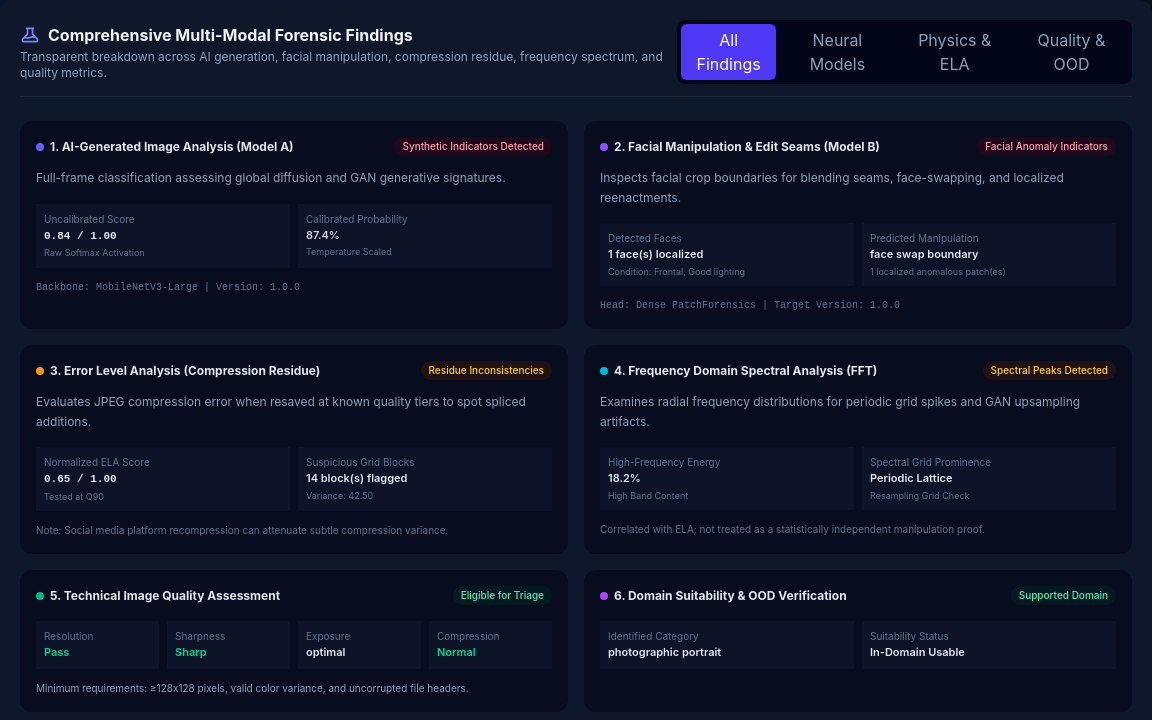
it: ForensicModalityBreakdown Component › filters visible sections when switching tabs
Switch to "Neural Models" tab
Click the tab "Neural Models": (837, 52) x1=780 y1=24 x2=894 y2=80
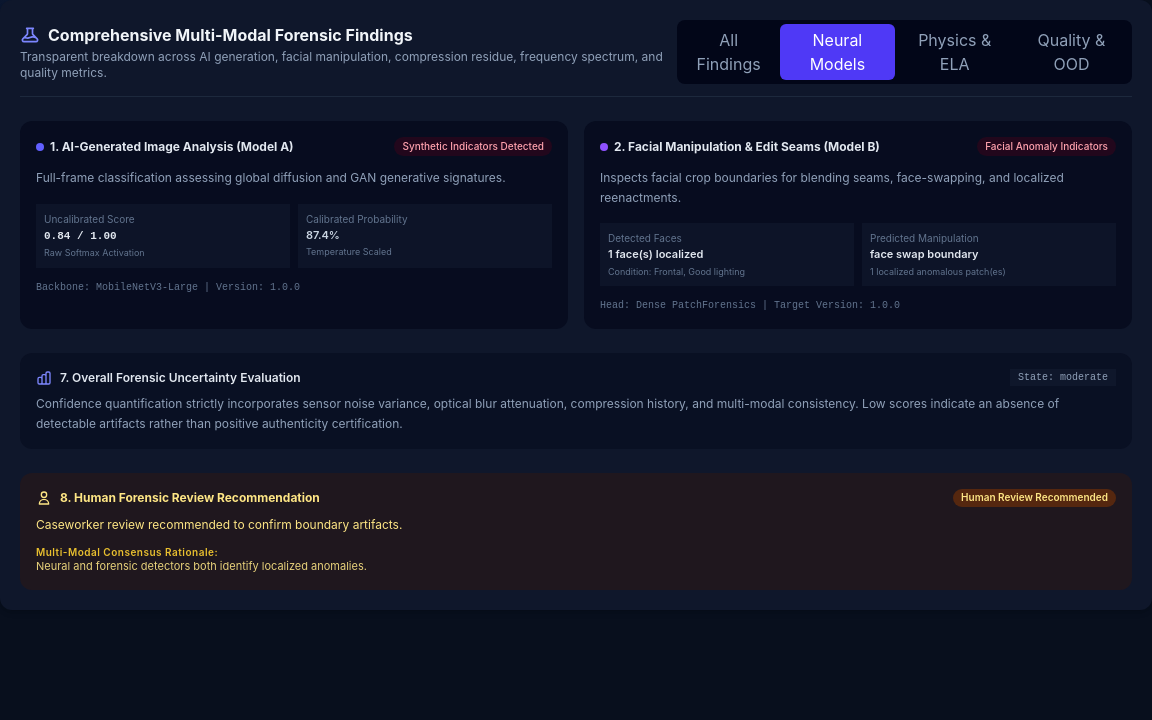
Expected: the heading "1. AI-Generated Image Analysis (Model A)" is shown, x1=36 y1=138 x2=294 y2=154
Expected: the heading "3. Error Level Analysis" is gone
Expected: the heading "4. Frequency Domain Spectral Analysis" is gone
Switch to "Physics & ELA" tab
Click the tab "Physics & ELA": (955, 52) x1=899 y1=24 x2=1011 y2=80
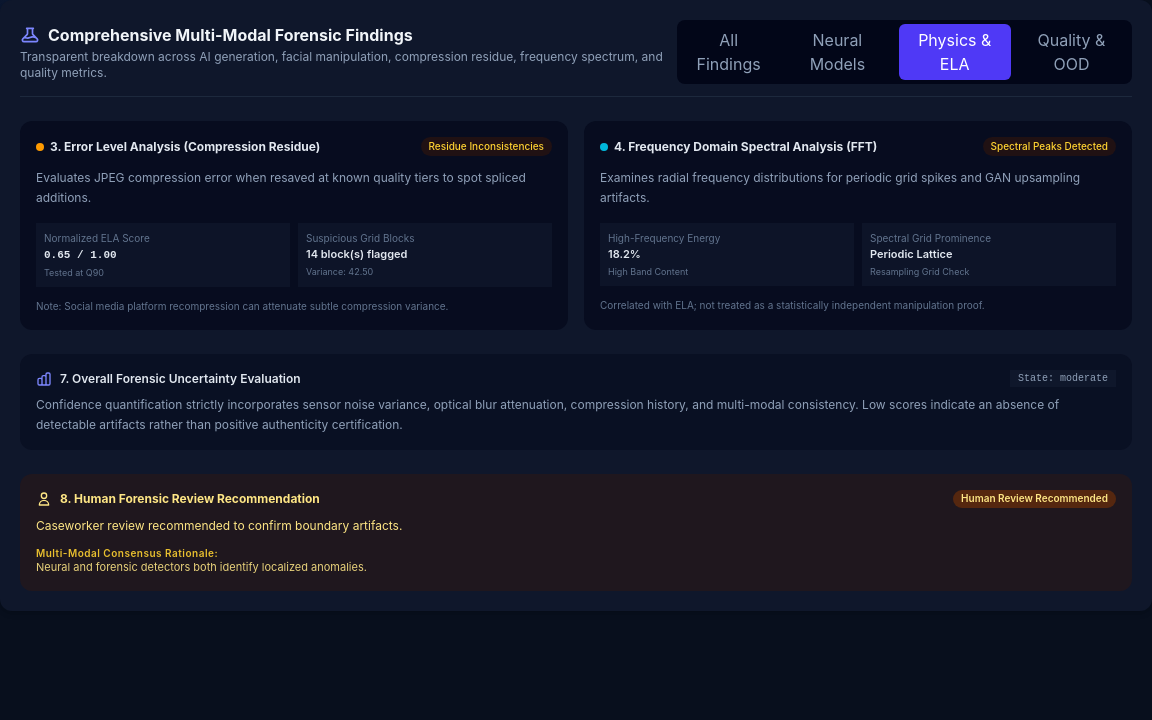
Expected: the heading "1. AI-Generated Image Analysis" is gone
Expected: the heading "2. Facial Manipulation" is gone
Expected: the heading "3. Error Level Analysis (Compression Residue)" is shown, x1=36 y1=138 x2=320 y2=154
Switch to "Quality & OOD" tab
Click the tab "Quality & OOD": (1071, 52) x1=1015 y1=24 x2=1128 y2=80
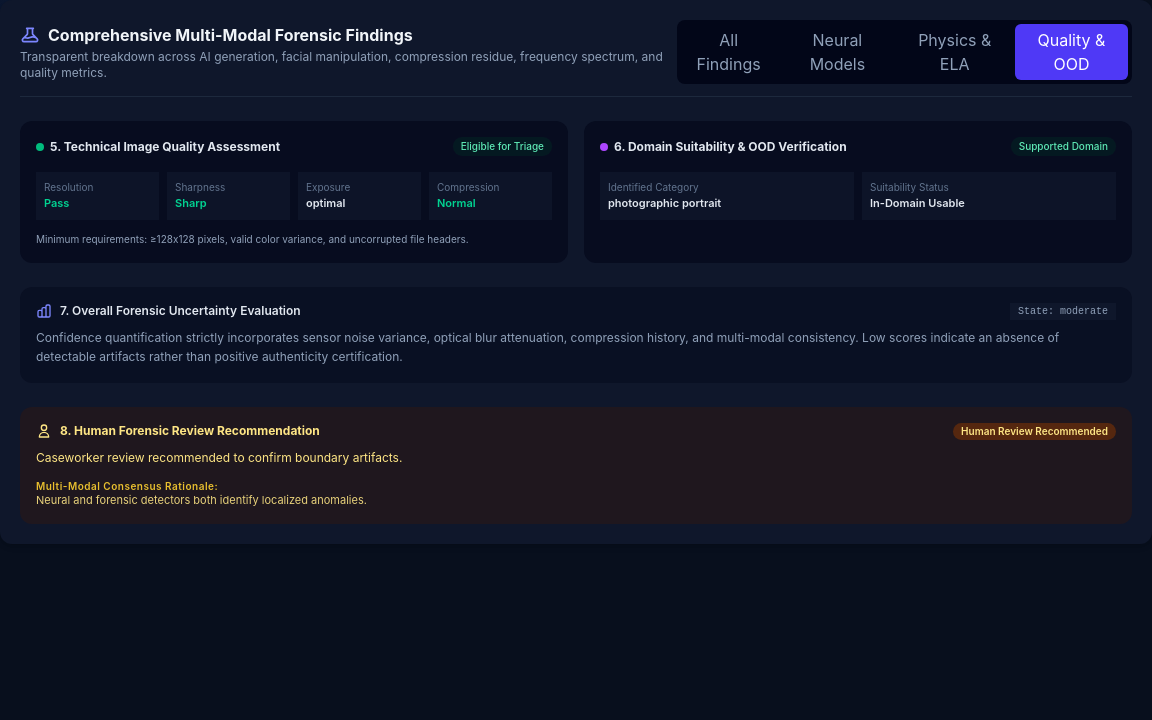
Expected: the heading "1. AI-Generated Image Analysis" is not shown
Expected: the heading "5. Technical Image Quality Assessment" is shown, x1=36 y1=138 x2=280 y2=154
Expected: the heading "6. Domain Suitability & OOD Verification" is shown, x1=600 y1=138 x2=847 y2=154
Switch back to "All Findings" tab
Click the tab "All Findings": (729, 52) x1=681 y1=24 x2=776 y2=80
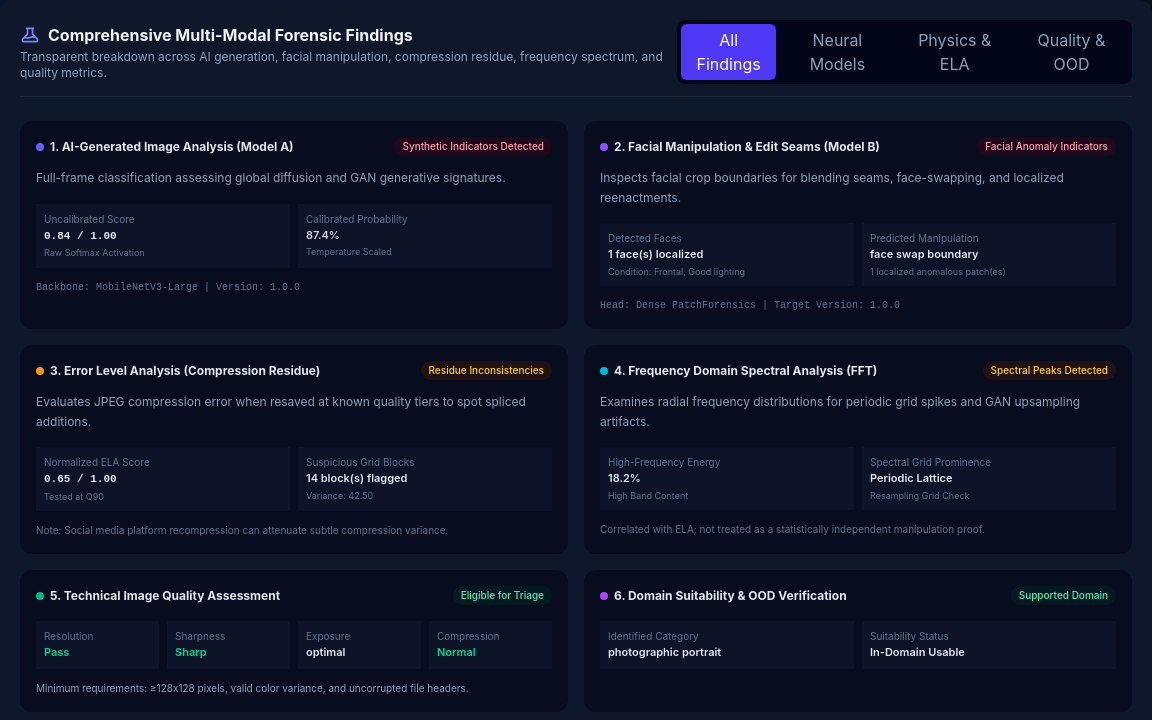
Expected: the heading "5. Technical Image Quality Assessment" is shown, x1=36 y1=588 x2=280 y2=604
Expected: the heading "1. AI-Generated Image Analysis (Model A)" is shown, x1=36 y1=138 x2=294 y2=154
Expected: the heading "3. Error Level Analysis (Compression Residue)" is shown, x1=36 y1=362 x2=320 y2=378
